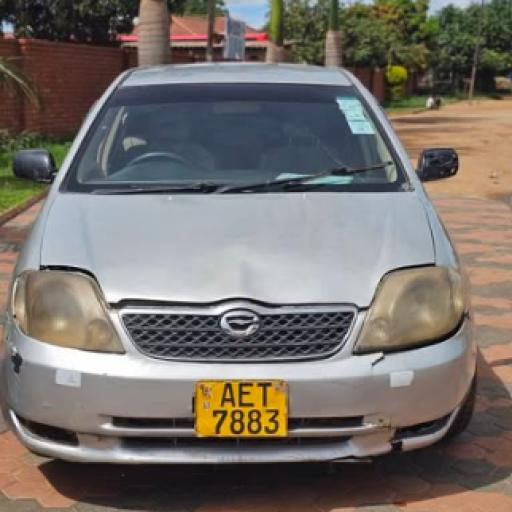number-plates: (197, 381, 289, 435)
